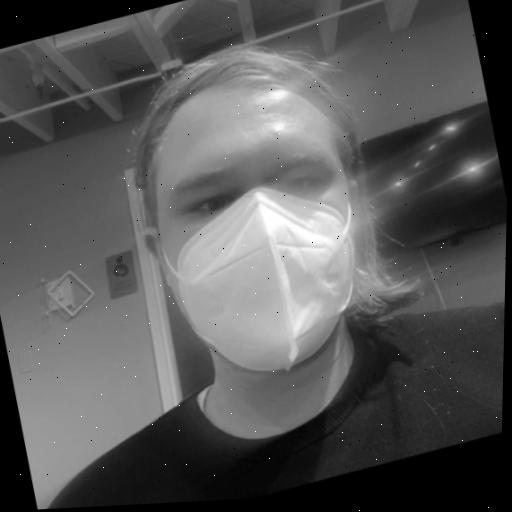mask: (60, 0, 454, 481)
